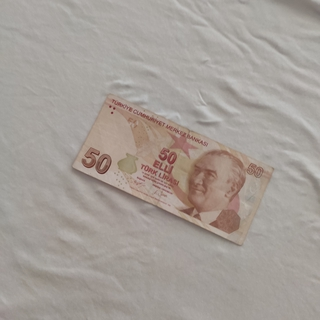50TLFront: (71, 92, 274, 246)
